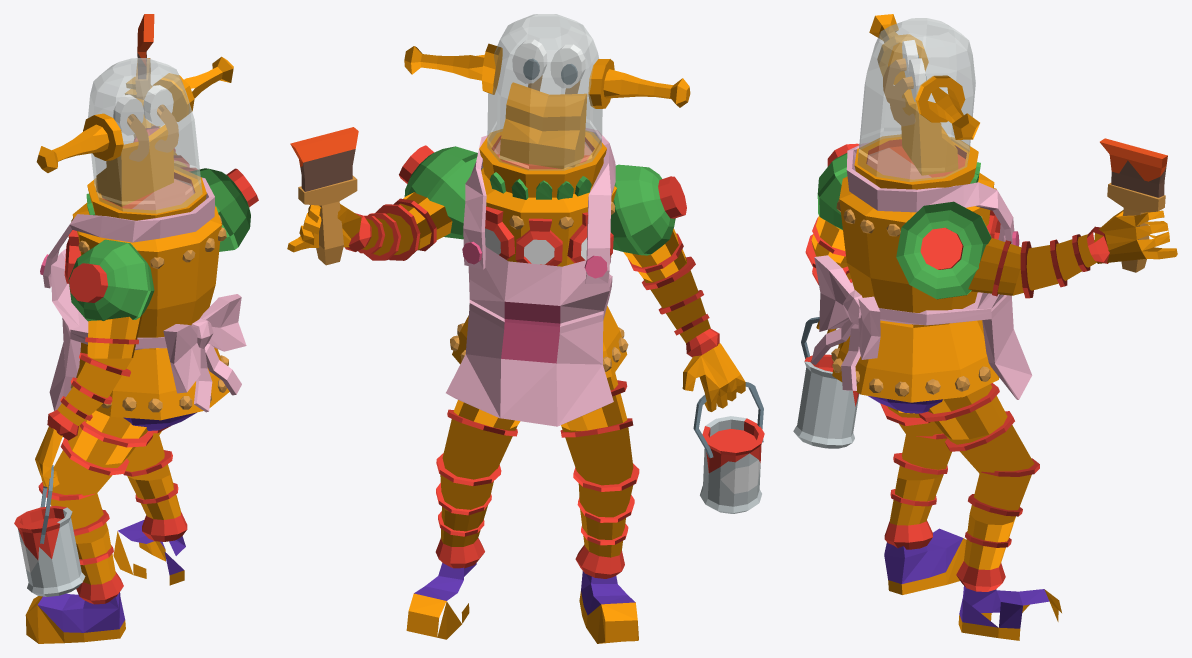
File: K-80 Robot.glb
3 renders of one model, left to right at view 1: azimuth 30°, elevation 25°; view 2: azimuth 150°, elevation 25°; view 3: azimuth 270°, elevation 25°, orthographic. The views are drawn at different scales.
Visible parts, largest first — view 1: group551439871; view 2: group551439871; view 3: group551439871.
Boxes of the visible parts, x1=… form: group551439871: x1=14, y1=14, x2=258, y2=643; group551439871: x1=287, y1=14, x2=764, y2=643; group551439871: x1=793, y1=14, x2=1177, y2=640.
Bounding box in the file's own units: 0.4631 × 0.8492 × 0.5013.
